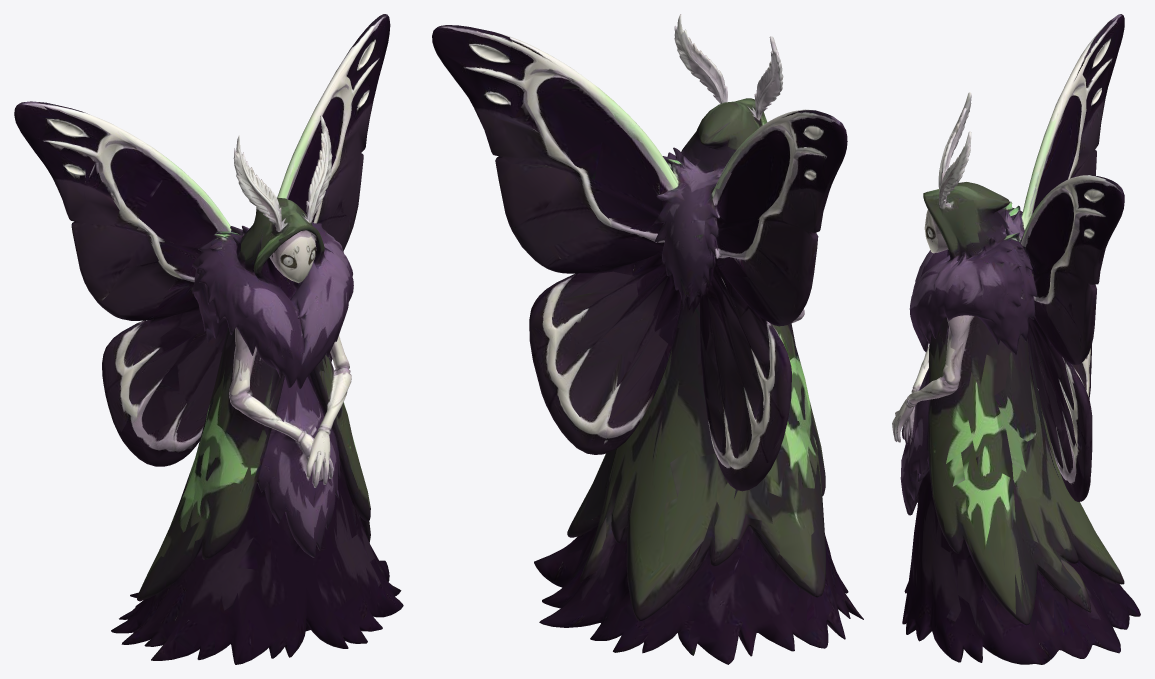
3 renders of one model, left to right at view 1: azimuth 30°, elevation 25°; view 2: azimuth 150°, elevation 25°; view 3: azimuth 270°, elevation 25°, orthographic. The views are drawn at different scales.
Visible parts, largest first — view 1: Mesh_0; view 2: Mesh_0; view 3: Mesh_0.
Boxes of the visible parts, x1=… form: Mesh_0: x1=14, y1=14, x2=403, y2=664; Mesh_0: x1=432, y1=14, x2=863, y2=664; Mesh_0: x1=892, y1=14, x2=1140, y2=664.
Size of the model in its own units: 1.44 by 1.9 by 0.8418.
1 material, 1 textured.
